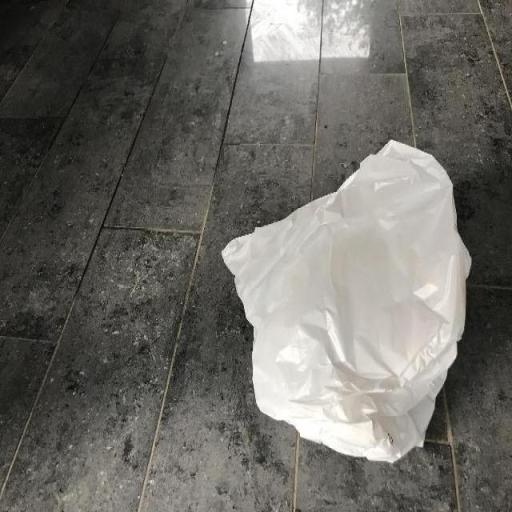plastic-bag: (218, 136, 475, 470)
